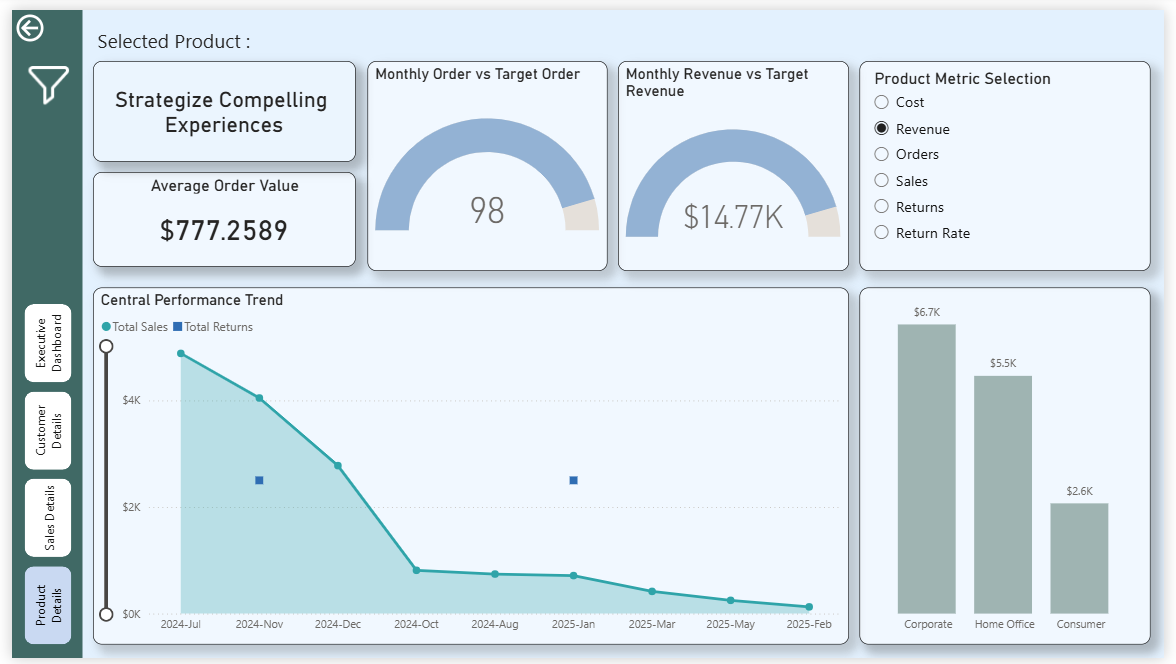

What the dashboard file says about the page in this screenshot:
{"tool":"powerbi","page":{"name":"Product Details","canvas":[1280,720],"ordinal":3},"visuals":[{"type":"shape","box":[0,0,78.3,720],"z":0},{"type":"lineChart","title":"Central Performance Trend","fields":{"Category":["Date_Dim.YearMonth"],"Y":["Measure_Table.Total Sales"],"Y2":["Measure_Table.Total Returns"]},"box":[90,308.3,840,396.7],"z":1000},{"type":"columnChart","title":"Segments","fields":{"Category":["Customer_Dim.Segment"],"Y":["Measure_Table.Total Cost","Measure_Table.Total Revenue","Measure_Table.Total Orders","Measure_Table.Total Sales","Measure_Table.Total Returns","Measure_Table.Return Rate(%)"]},"box":[941.7,308.3,323.3,396.7],"z":2000},{"type":"card","title":"Average Order Value","fields":{"Values":["Measure_Table.Average Order Value"]},"box":[90,180,291.7,105],"z":3000},{"type":"card","fields":{"Values":["Measure_Table.Selected Product Display"]},"box":[90,56.7,291.7,111.7],"z":4000},{"type":"textbox","box":[90,13.3,195,38.3],"z":5000},{"type":"gauge","title":"Monthly Order vs Target Order","fields":{"MaxValue":["Measure_Table.Orders Target"],"Y":["Measure_Table.Total Orders"]},"box":[395,56.7,266.7,233.3],"z":6000},{"type":"gauge","title":"Monthly Revenue vs Target Revenue","fields":{"MaxValue":["Measure_Table.Revenue Target"],"Y":["Measure_Table.Total Revenue"]},"box":[673.3,56.7,256.7,233.3],"z":7000},{"type":"actionButton","box":[0,0,60,40],"z":8000},{"type":"pageNavigator","box":[10,326.7,60,378.3],"z":9000},{"type":"actionButton","box":[10,51.7,78.3,61.7],"z":10000},{"type":"slicer","fields":{"Values":["Product Metric Selection.Product Metric Selection"]},"box":[942,57,323,233],"z":12000}]}

Visuals, with their boxes in screenshot pixels (x1, y1, x2, y2), scaled from the page's 1280x720 canvas onto the 1176x664 screenshot:
shape: x1=0 y1=0 x2=72 y2=663
"Central Performance Trend" lineChart: x1=83 y1=284 x2=854 y2=650
"Segments" columnChart: x1=865 y1=284 x2=1162 y2=650
"Average Order Value" card: x1=83 y1=166 x2=351 y2=263
card - Measure_Table.Selected Product Display: x1=83 y1=52 x2=351 y2=155
textbox: x1=83 y1=12 x2=262 y2=48
"Monthly Order vs Target Order" gauge: x1=363 y1=52 x2=608 y2=267
"Monthly Revenue vs Target Revenue" gauge: x1=619 y1=52 x2=854 y2=267
actionButton: x1=0 y1=0 x2=55 y2=37
pageNavigator: x1=9 y1=301 x2=64 y2=650
actionButton: x1=9 y1=48 x2=81 y2=105
slicer - Product Metric Selection.Product Metric Selection: x1=865 y1=53 x2=1162 y2=267
